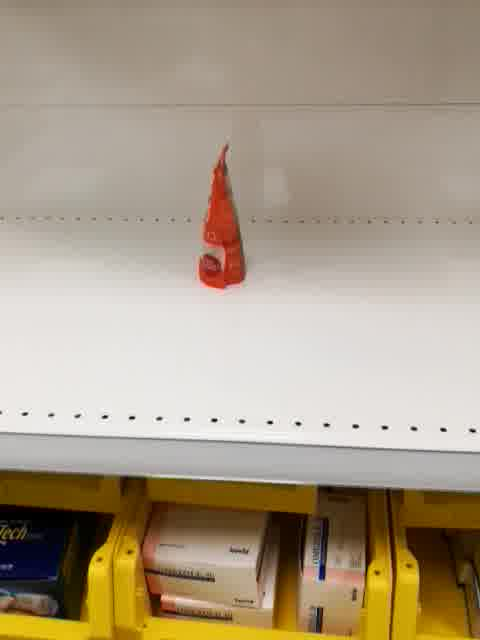whitechia: (197, 141, 250, 292)
